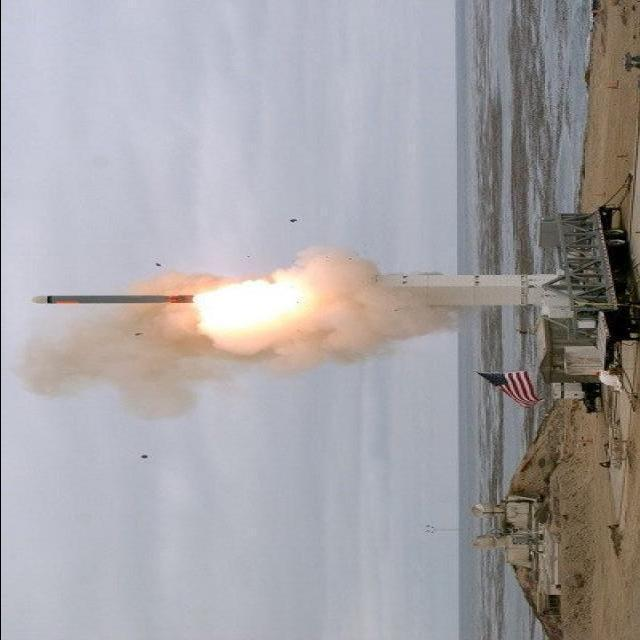missile: (24, 287, 203, 309)
